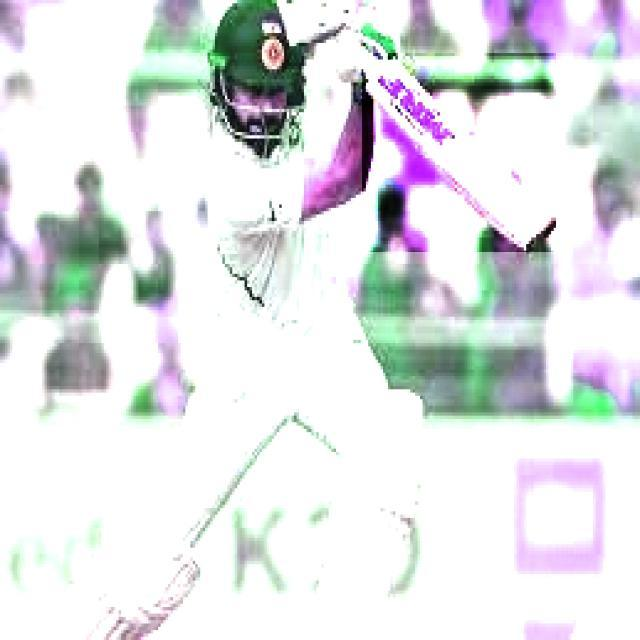bat: (366, 55, 568, 253)
toe: (519, 221, 563, 257)
